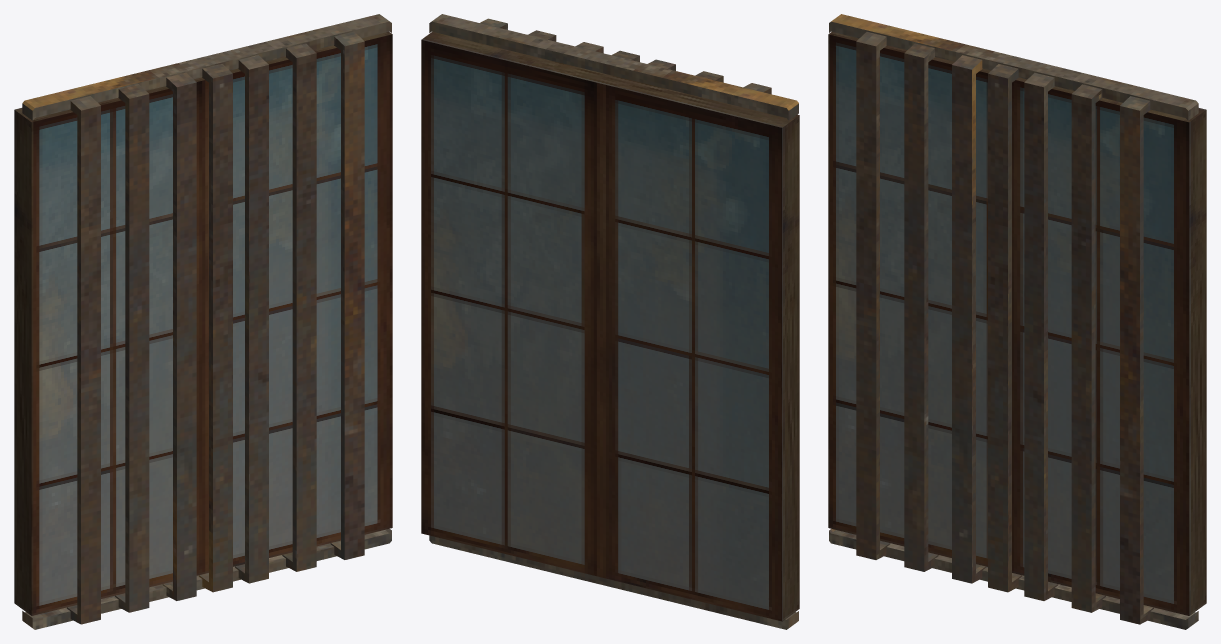
Rendered from window_with_bars.fbx.
3 views of the same model, side by side, from view 1: azimuth 30°, elevation 25°; view 2: azimuth 150°, elevation 25°; view 3: azimuth 330°, elevation 25° (orthographic).
Visible parts, largest first — view 1: Cube, Plane; view 2: Cube, Plane; view 3: Cube, Plane.
Part boxes in pixels (left/top/right/bottom): Cube: left=14, top=32, right=392, bottom=615; Plane: left=22, top=14, right=391, bottom=629; Cube: left=421, top=31, right=799, bottom=621; Plane: left=429, top=14, right=798, bottom=629; Cube: left=828, top=32, right=1206, bottom=615; Plane: left=829, top=14, right=1198, bottom=629.
Bounding box in the file's own units: 181 × 250 × 24.46.
